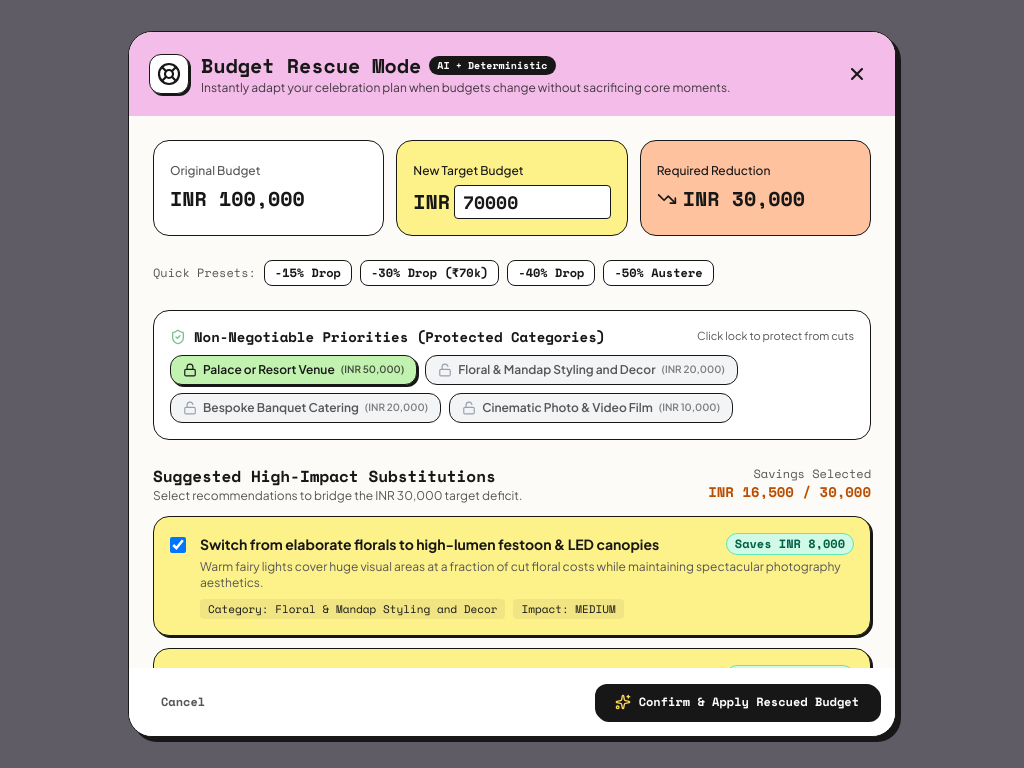
Test: BudgetRescueModal UI Interaction › toggles suggestion acceptance on click and updates selected savings
The image size is (1024, 768).
expect the checkbox is checked: met, box [170,537,186,553]
Note: Toggle off by clicking on the suggestion card
Click the text "Switch from elaborate florals": (430, 544) [200,534,659,554]
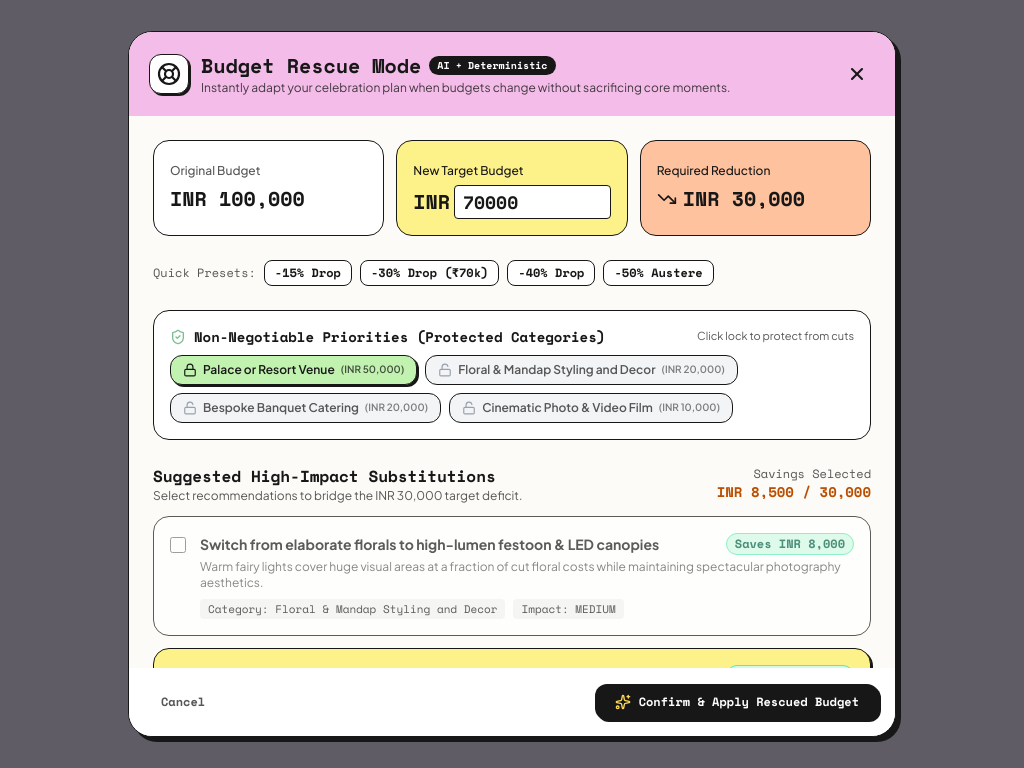
expect the checkbox is not checked: met, box [170,537,186,553]
